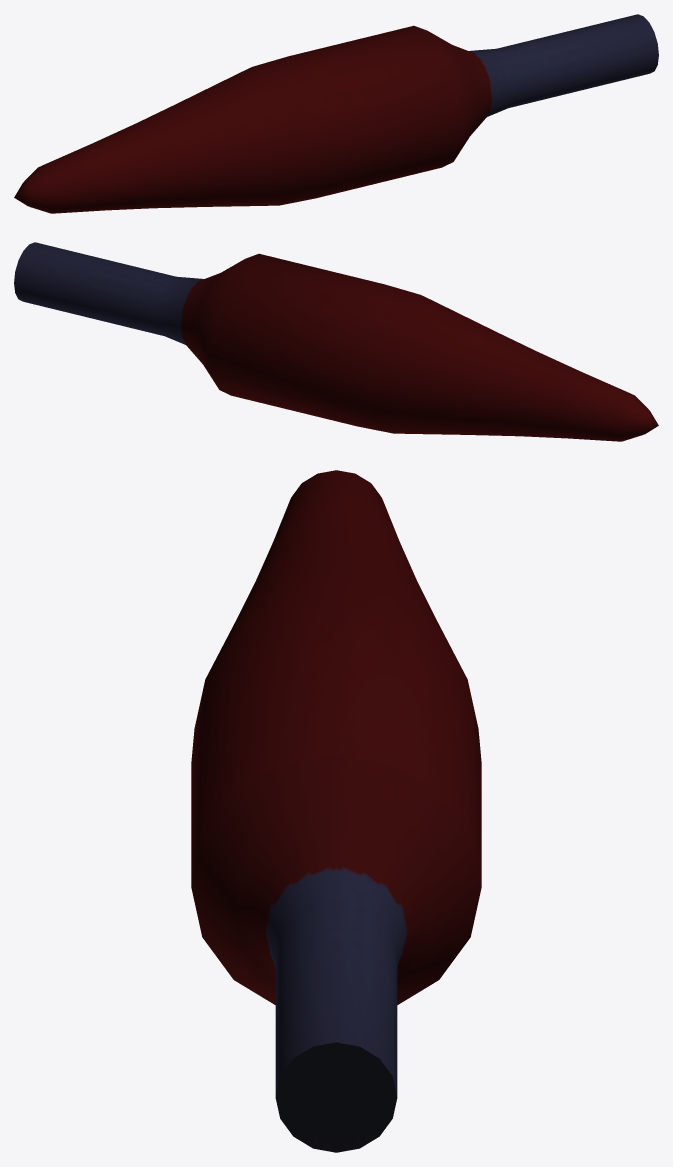
The model's file is Rocket.fbx.
3 views of the same model, one above another, from view 1: azimuth 30°, elevation 25°; view 2: azimuth 150°, elevation 25°; view 3: azimuth 270°, elevation 25° (orthographic). The views are drawn at different scales.
Visible parts, largest first — view 1: Rocket; view 2: Rocket; view 3: Rocket.
Boxes of the visible parts, x1,y1,x2,y2 form: Rocket: [14, 14, 658, 213]; Rocket: [14, 242, 658, 441]; Rocket: [191, 470, 481, 1152].
Bounding box in the file's own units: 119 × 23.72 × 23.72.
1 material, 1 textured.
